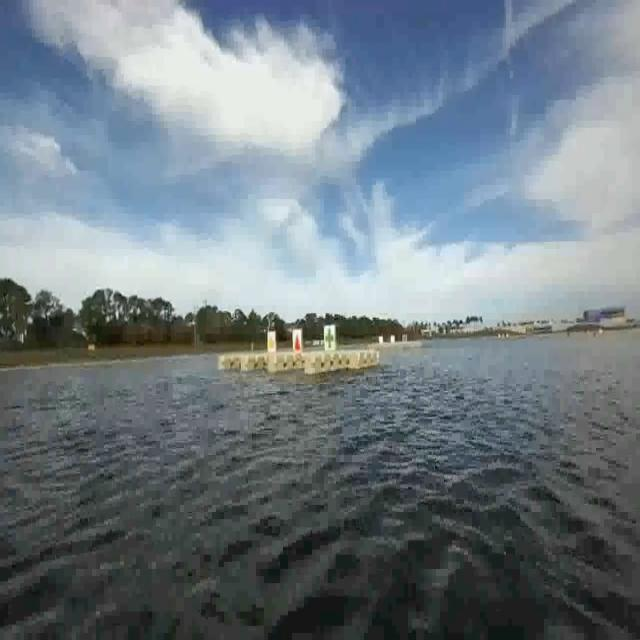blue-cross: (333, 332, 345, 358)
red-dot: (293, 330, 304, 353)
yellow-duck: (266, 332, 276, 354)
